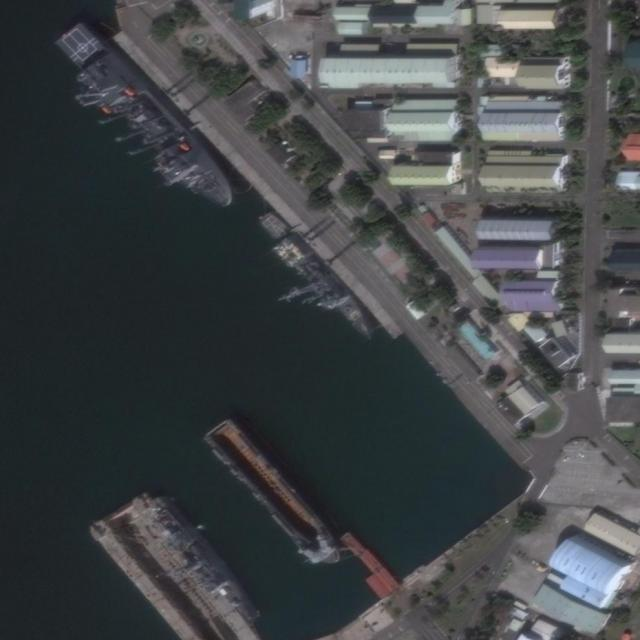Auxiliary Ships: (250, 206, 381, 343)
Cargo: (196, 412, 352, 579)
Commander: (39, 15, 249, 231)
